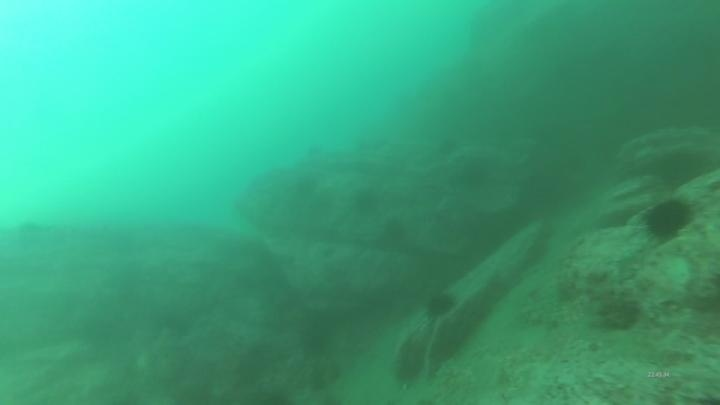echinus: (641, 195, 695, 244), (390, 334, 430, 388), (422, 289, 458, 322), (350, 185, 382, 218), (380, 214, 411, 246)
